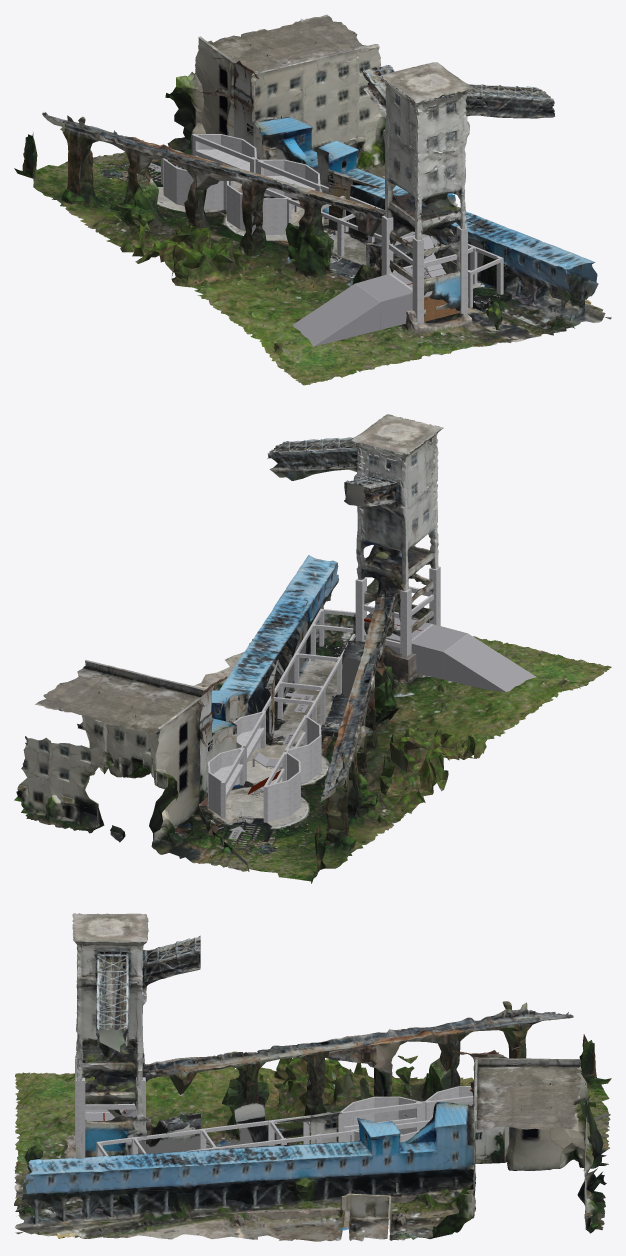
The model's file is anquanshengchan.dae.
3 views of the same model, one above another, from view 1: azimuth 30°, elevation 25°; view 2: azimuth 150°, elevation 25°; view 3: azimuth 270°, elevation 25° (orthographic).
Parts seen in each view (by area): view 1: Tile_+005_+003.001; view 2: Tile_+005_+003.001; view 3: Tile_+005_+003.001.
Part boxes in pixels (left/top/right/bottom): Tile_+005_+003.001: left=14, top=14, right=611, bottom=385; Tile_+005_+003.001: left=14, top=414, right=611, bottom=883; Tile_+005_+003.001: left=14, top=913, right=611, bottom=1241.
Bounding box in the file's own units: 45.4 × 73.89 × 33.23.
12 materials, 12 textured.
